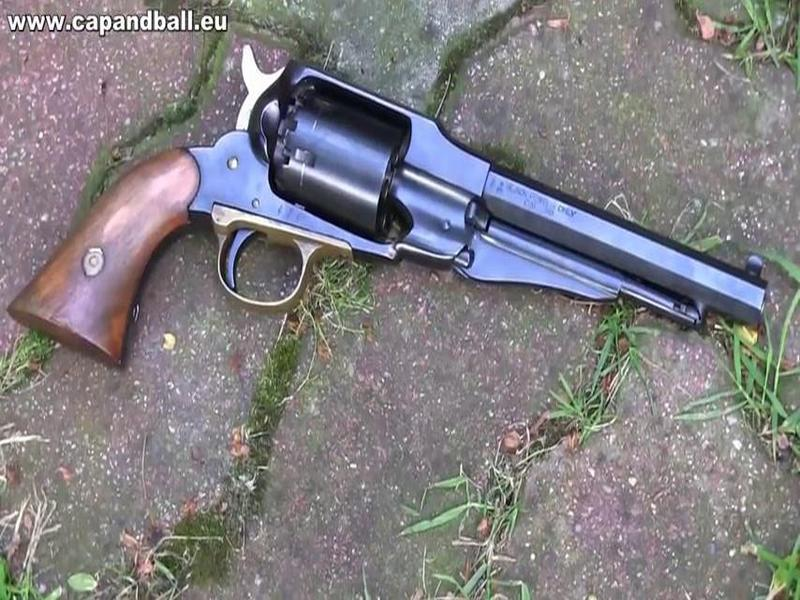Revolver: (213, 36, 774, 384)
